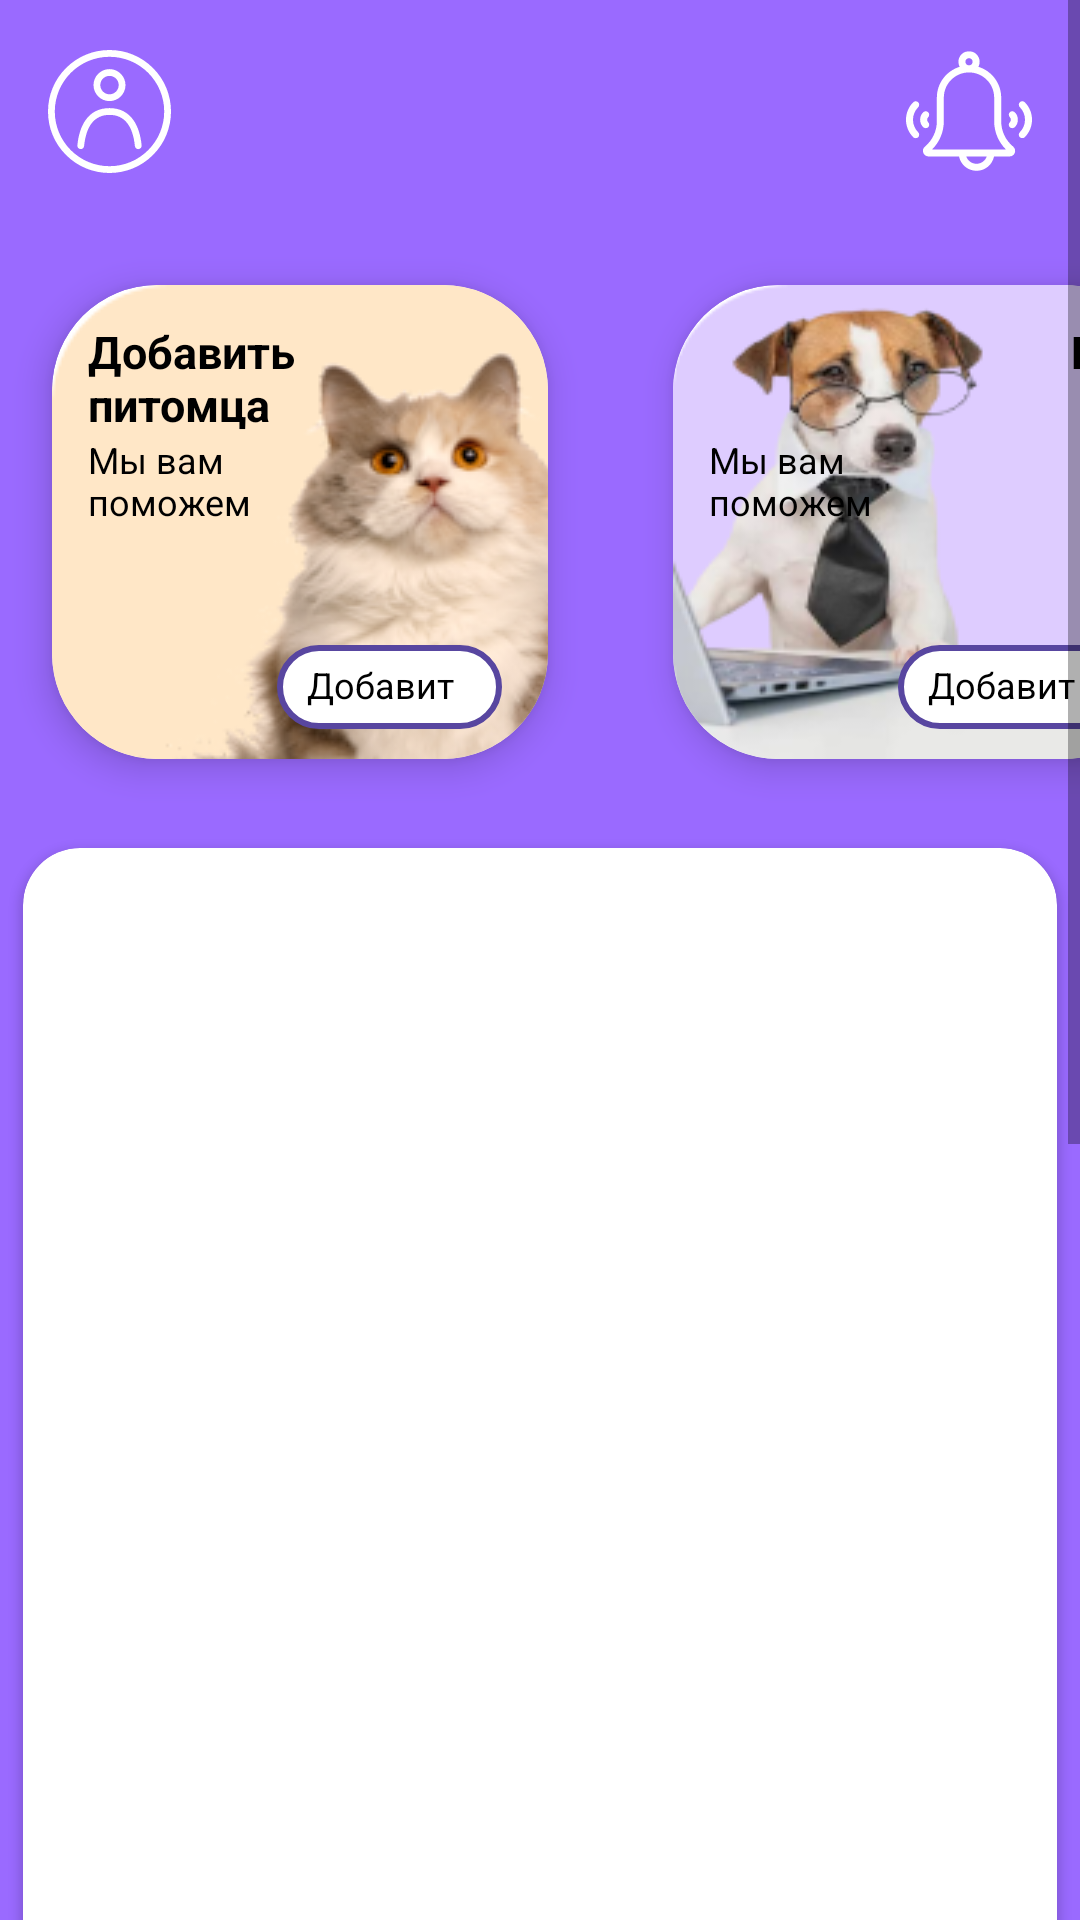

Icons on this 1080 x 1920 Android screen, each with its box as Rect(x1, y1, x2, y2):
kolokol: Rect(906, 51, 1032, 171)
profile: Rect(48, 50, 171, 173)
